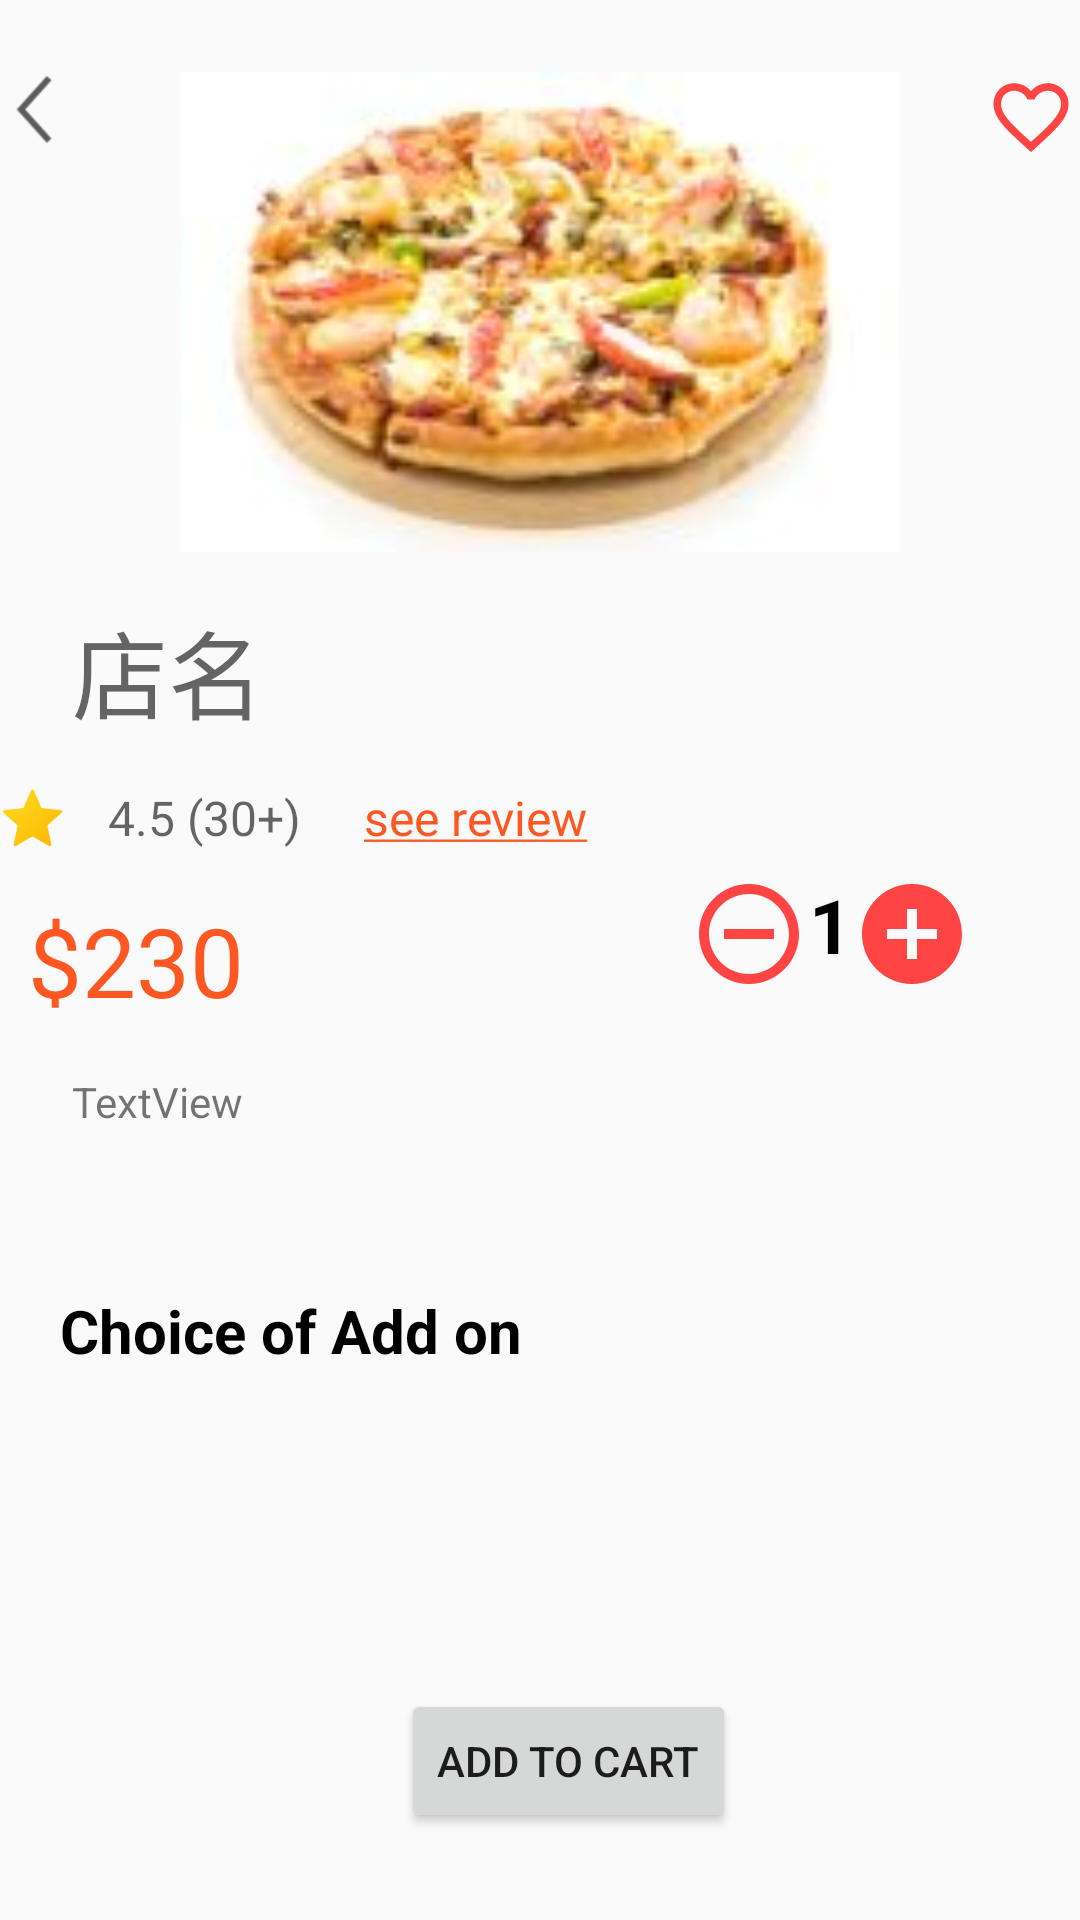

Locate icon controls on the screen. Image size 1080w x 1920h, boxes as detection(x1, y1, x2, y2).
add circle: detection(862, 884, 962, 984)
back: detection(16, 76, 52, 143)
favorite toggle selcet: detection(993, 83, 1069, 152)
remove circle: detection(699, 884, 799, 984)
star: detection(2, 789, 63, 847)
